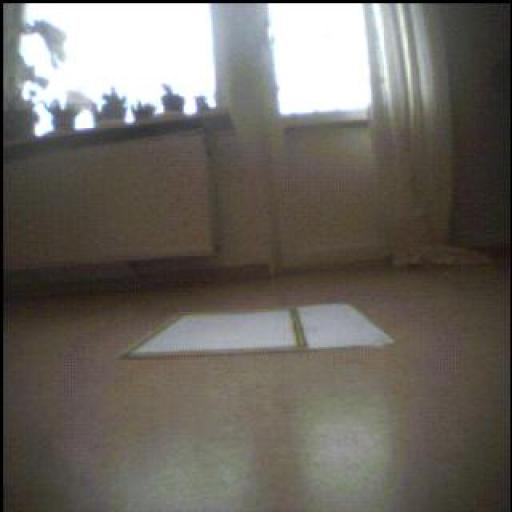Pad: (129, 305, 393, 359)
